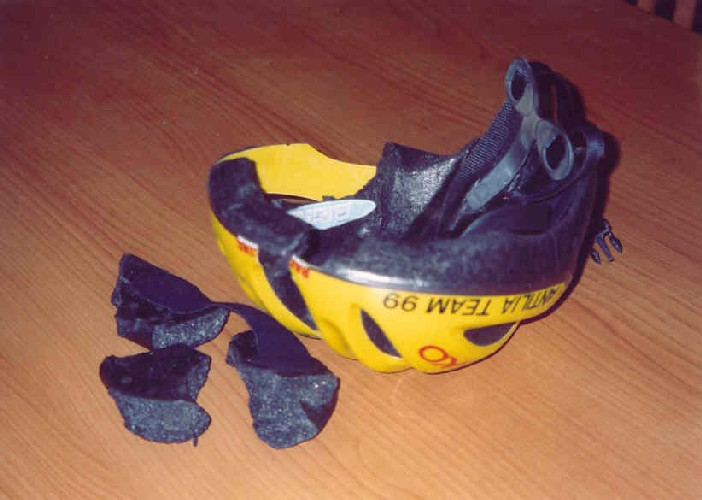helmet: (227, 134, 583, 367)
